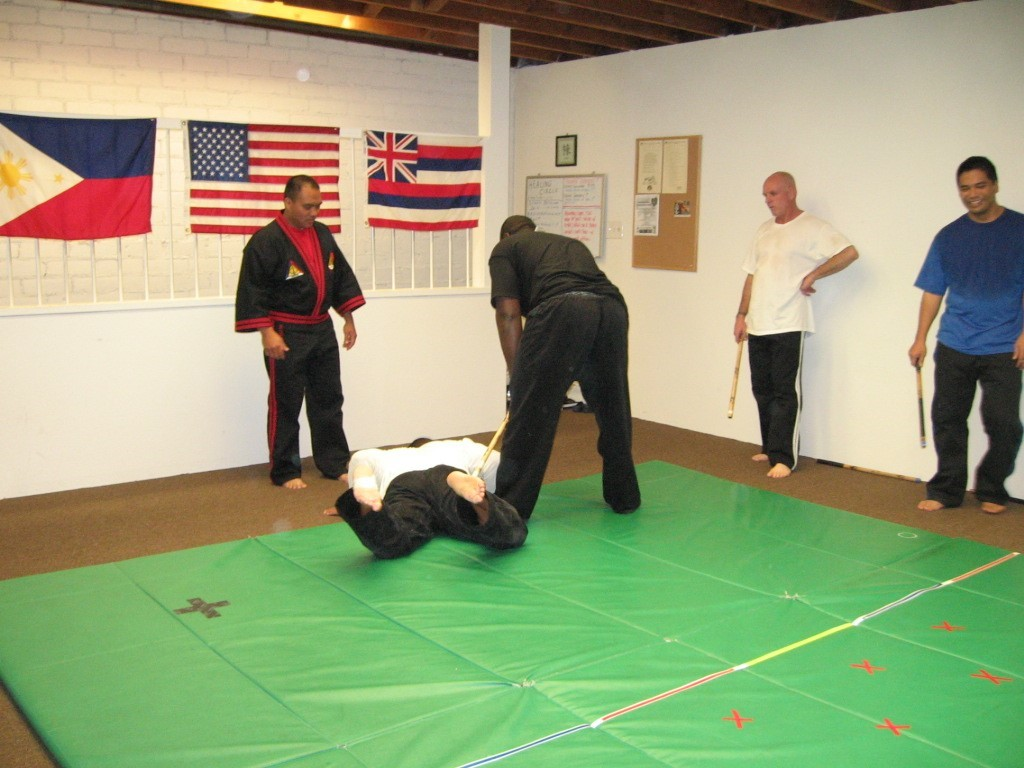baston_e: (470, 414, 509, 475), (819, 458, 914, 481), (727, 341, 744, 414), (914, 368, 926, 443)
baston_v: (919, 443, 928, 450), (915, 476, 922, 484), (814, 456, 821, 464), (726, 413, 733, 420)
